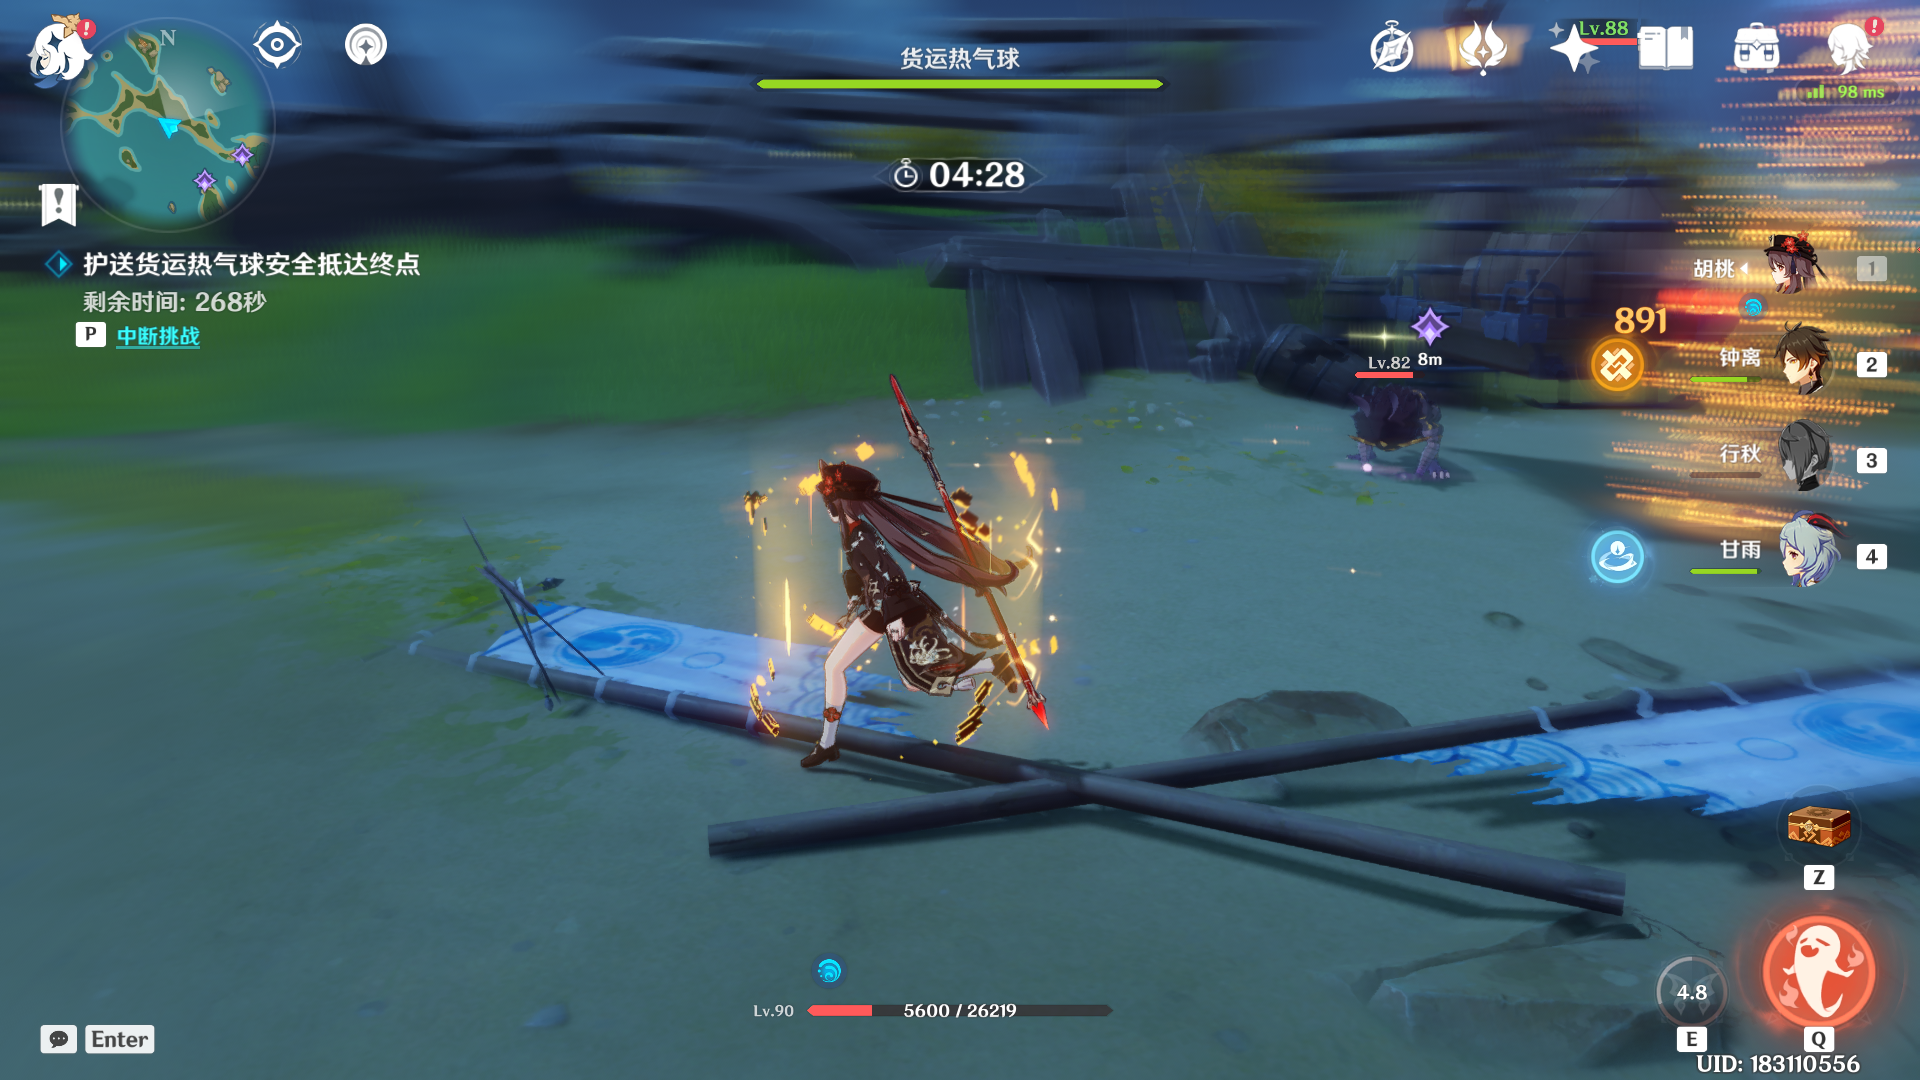character: (713, 423, 1044, 857)
hili: (1344, 359, 1470, 513)
